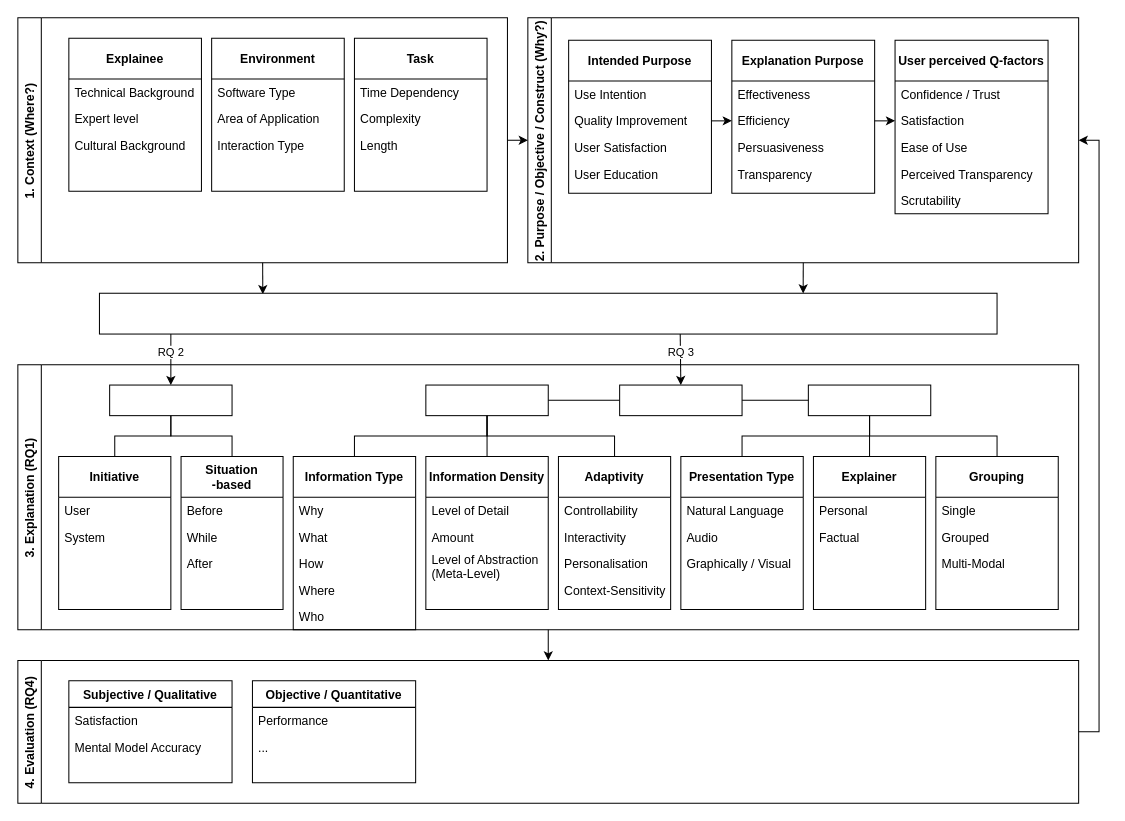
The diagram is 1125 pixels wide and 821 high, and some of its shapes have lost their labels. Each missing label, with the centre of its shape:
"Content (What?)" goes at (x=486, y=400).
"Delivery" goes at (x=680, y=400).
"Demand (When?)" goes at (x=170, y=400).
"Display (How?)" goes at (x=869, y=400).
"Requirements" goes at (x=547, y=313).
